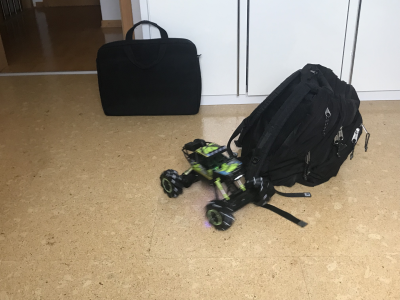remote control car: (156, 137, 275, 231)
